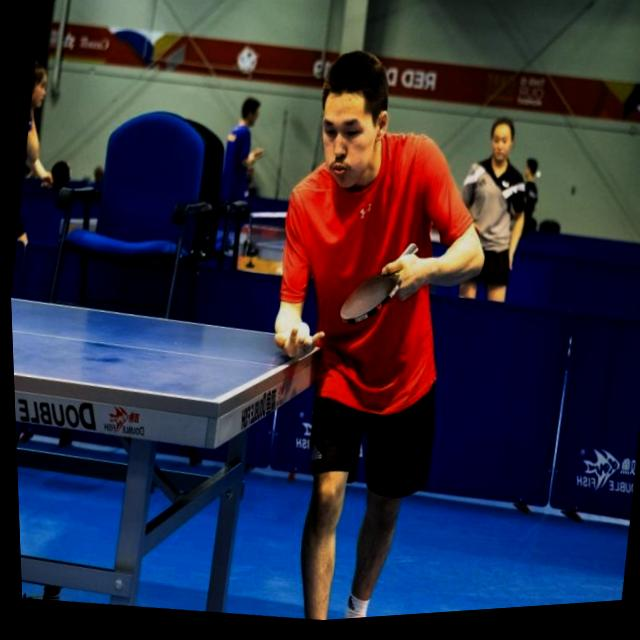TT Racket: (325, 266, 412, 330)
TT Table: (11, 298, 325, 400)
